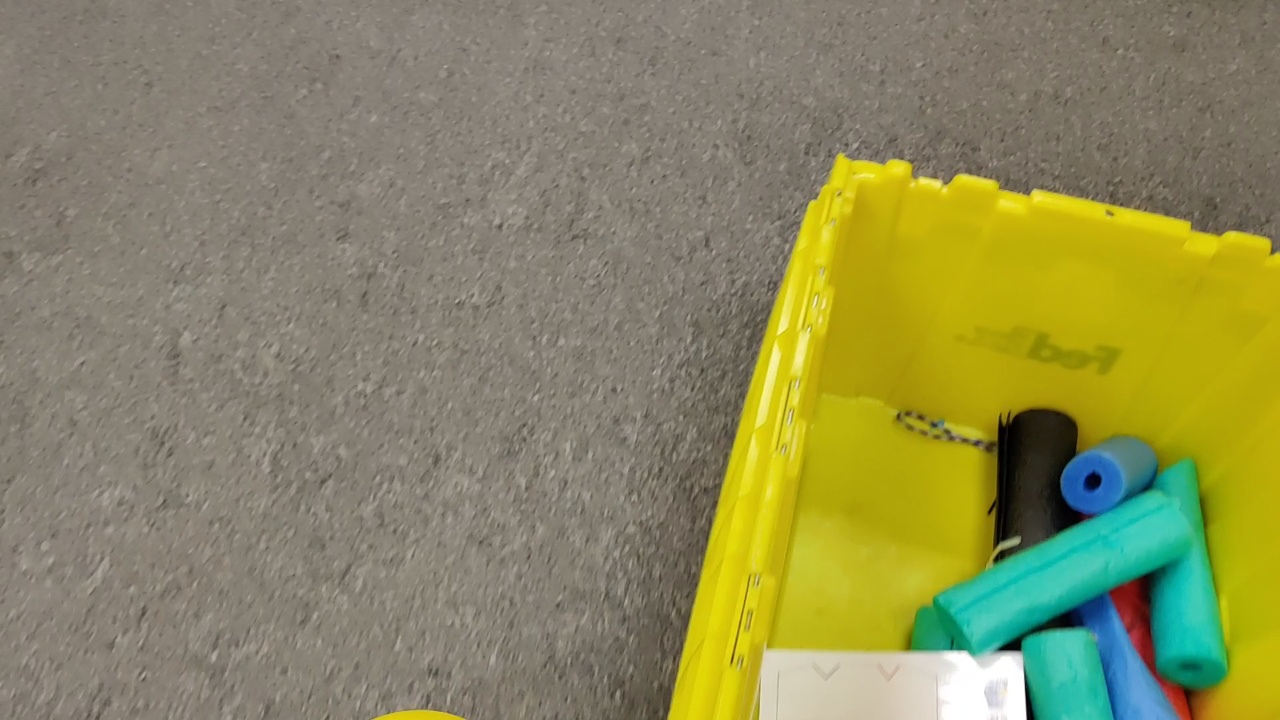Ball: (368, 708, 473, 720)
